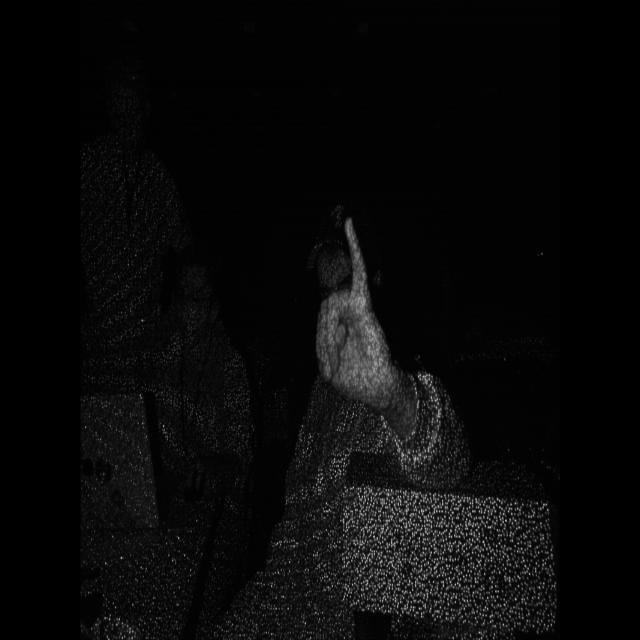D: (304, 204, 432, 446)
